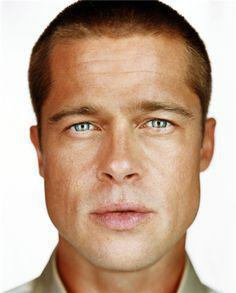Sober: (47, 43, 194, 258)
